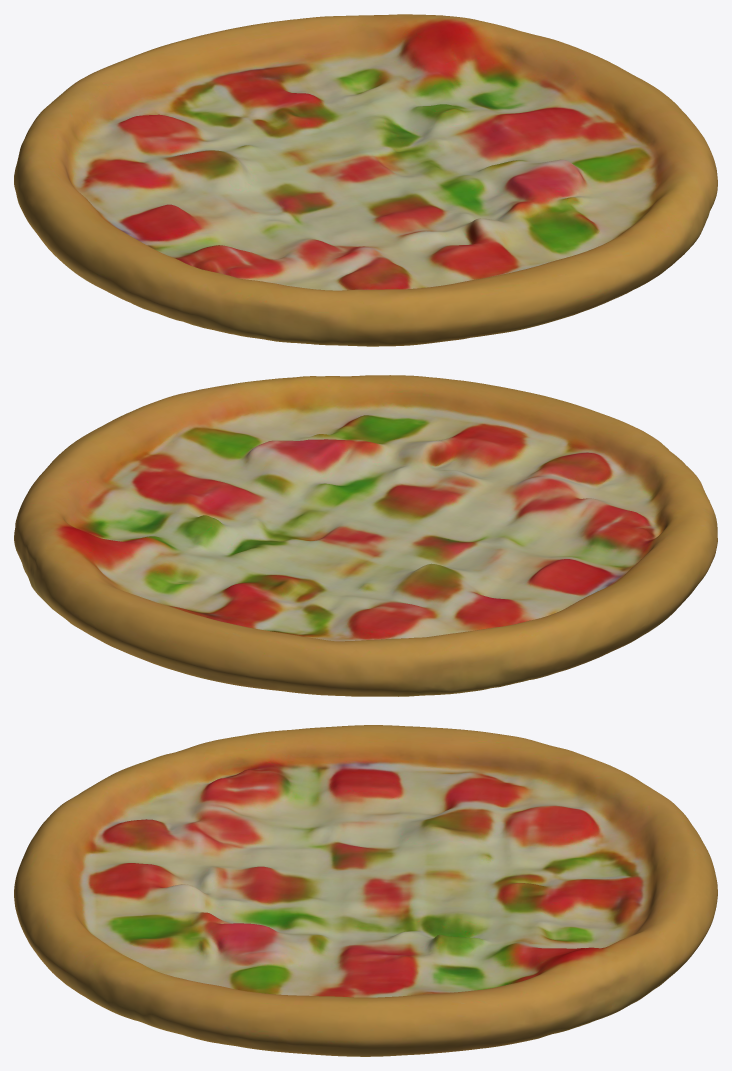
The model's file is 7b6e5389be0a_pizza__3d_asset_0_g.fbx.
3 views of the same model, one above another, from view 1: azimuth 30°, elevation 25°; view 2: azimuth 150°, elevation 25°; view 3: azimuth 270°, elevation 25° (orthographic).
Parts seen in each view (by area): view 1: high_poly; view 2: high_poly; view 3: high_poly.
Part boxes in pixels (x1=…): high_poly: x1=14, y1=14, x2=717, y2=346; high_poly: x1=14, y1=375, x2=717, y2=696; high_poly: x1=14, y1=725, x2=717, y2=1056.
Bounding box in the file's own units: 100 × 9.02 × 99.78.
